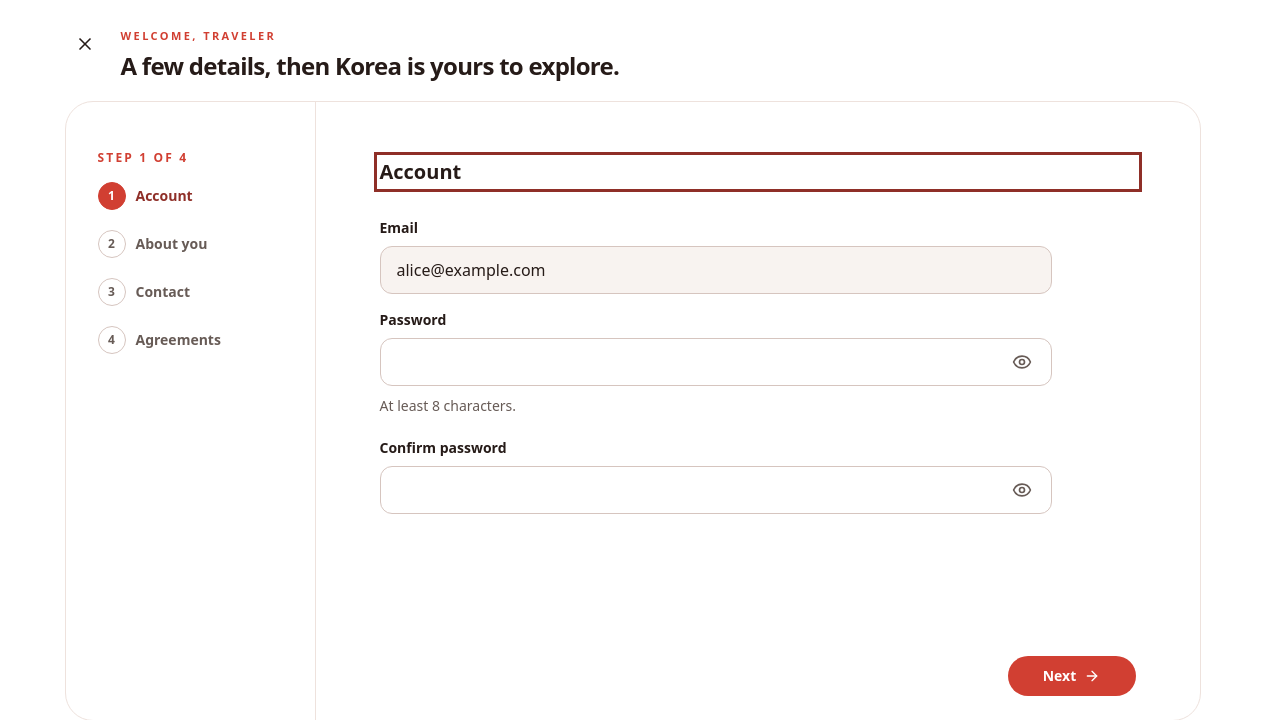
OnboardingForm › keeps email credentials in memory between steps and validates them before advancing
Click the button "Next": [1072, 676] box [1008,656,1136,696]
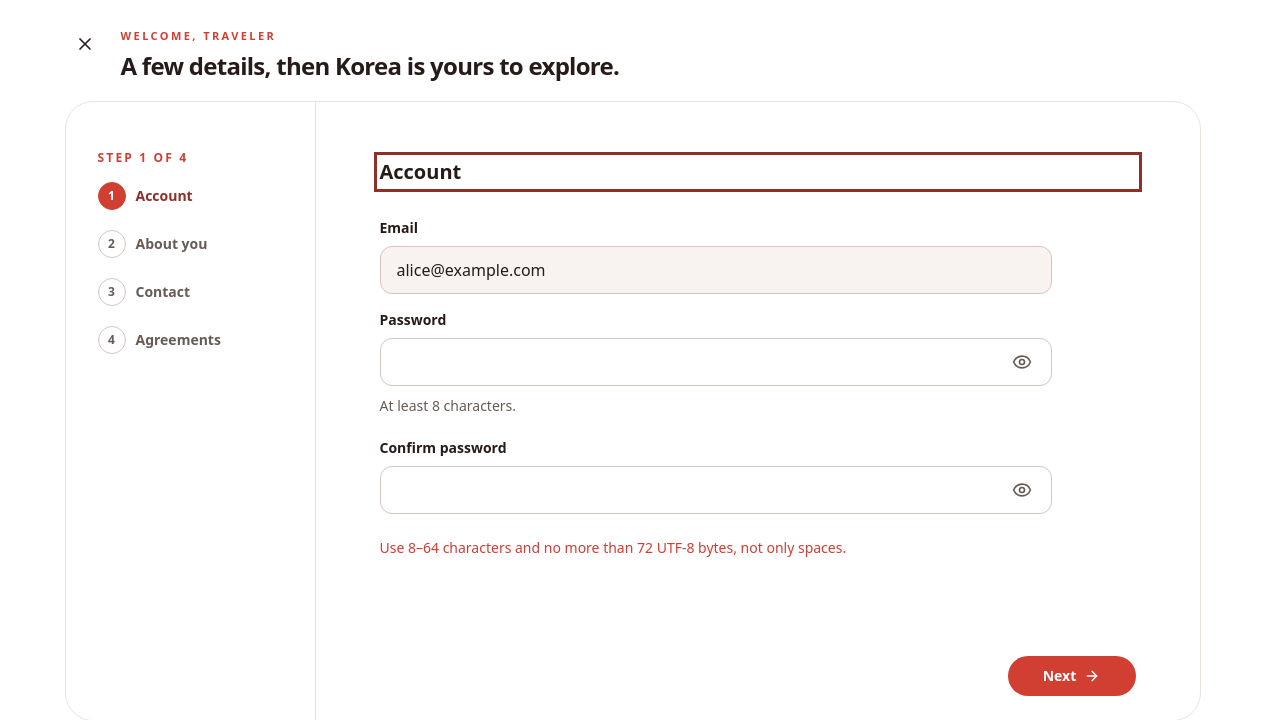
Expected: the navigation bar "Step 1 of 4" is shown, [66,102,316,719]
Expected: the message shows "8–64", [380,538,846,556]
In the password field labelled "Password": [716, 362] box [380,338,1052,386], type "abcdefgh"
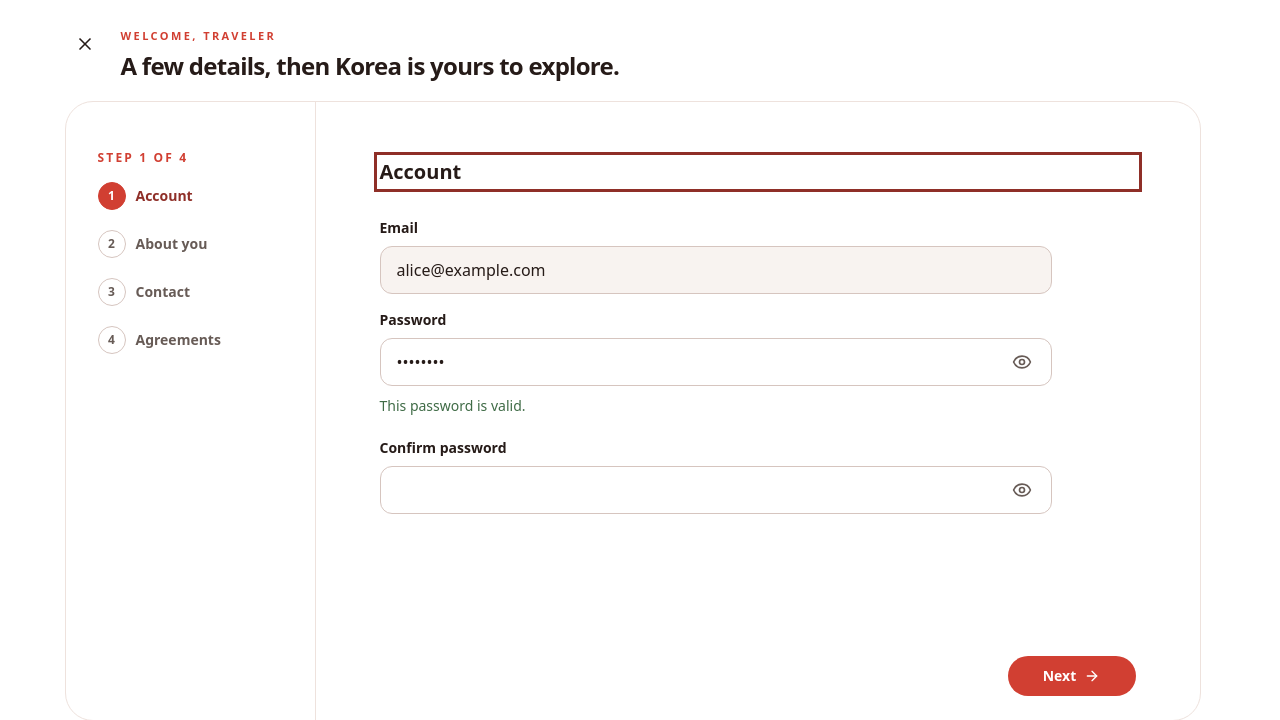
Expected: the message "Use 8–64 characters and no more than 72 UTF-8 bytes, not only spaces." is gone
In the password field labelled "Confirm password": [716, 490] box [380,466,1052,514], type "abcdefgh"
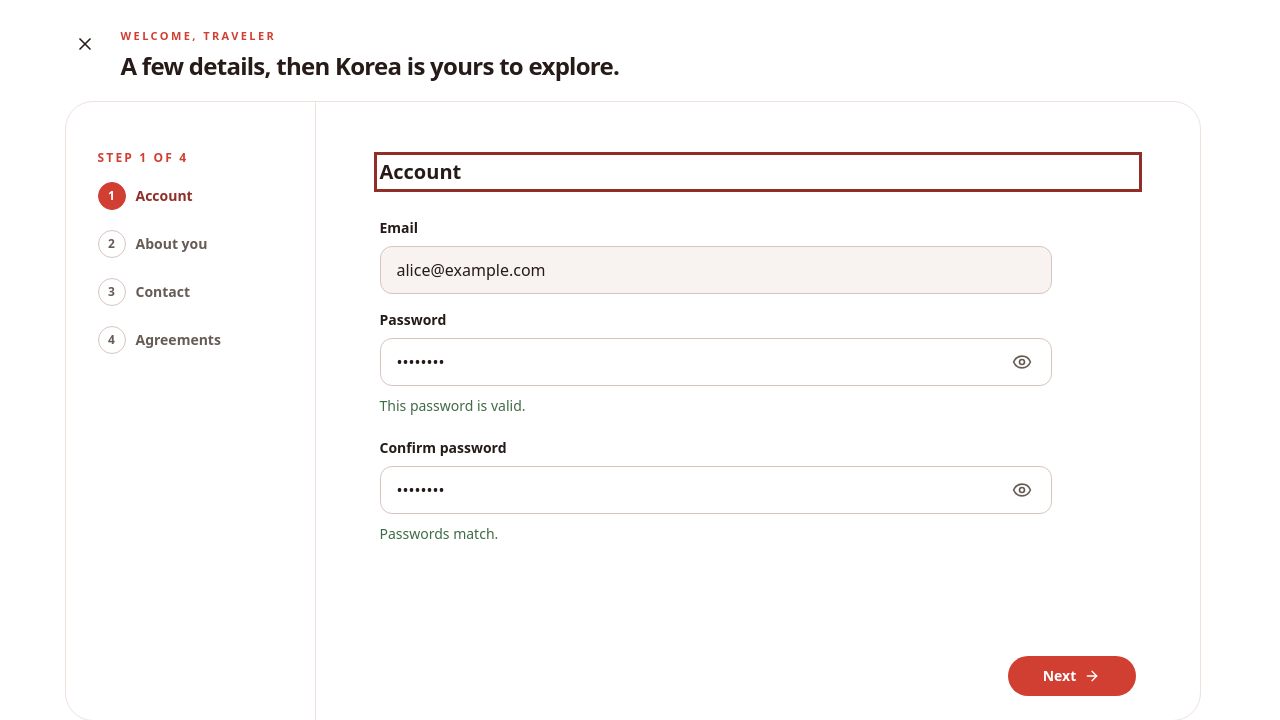
Click the button "Next": [1072, 676] box [1008,656,1136,696]
(page scrolled)
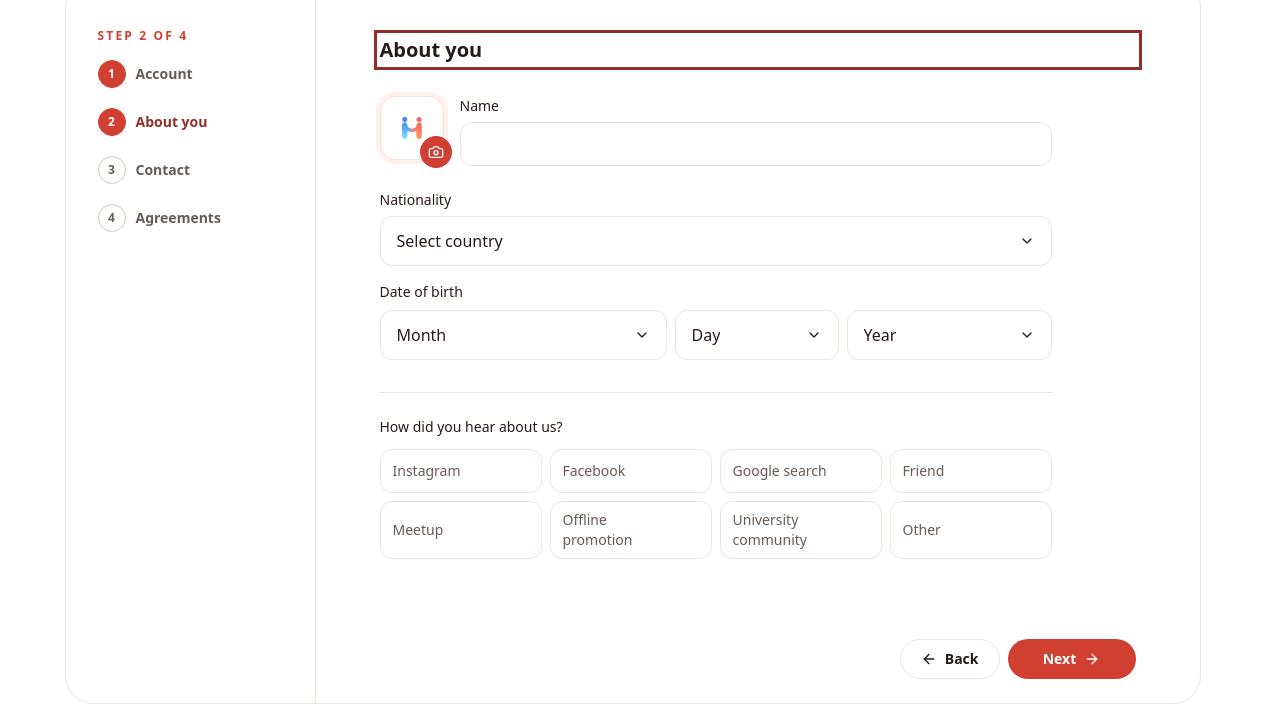
Click the button "Back": [950, 658] box [900,638,1000,678]
(page scrolled)
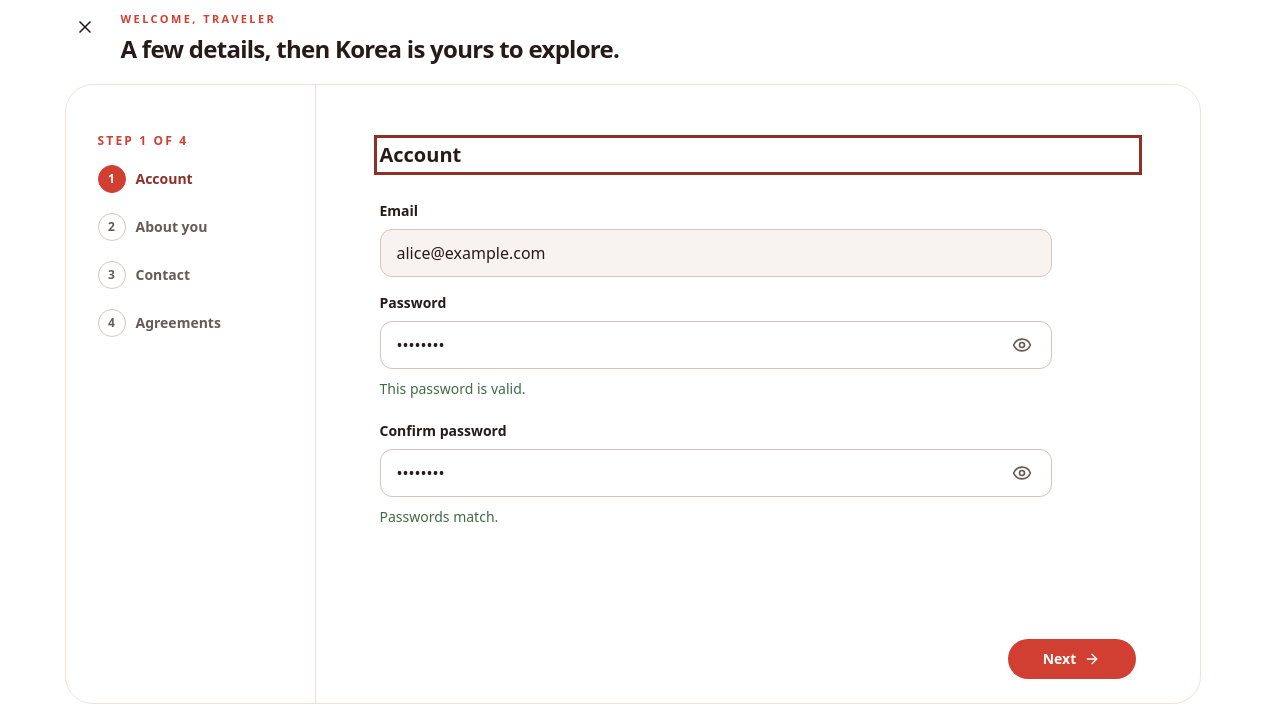
Expected: the password field labelled "Password" holds "abcdefgh", [380,320,1052,368]
Expected: the navigation bar "Step 1 of 4" is shown, [66,84,316,702]
